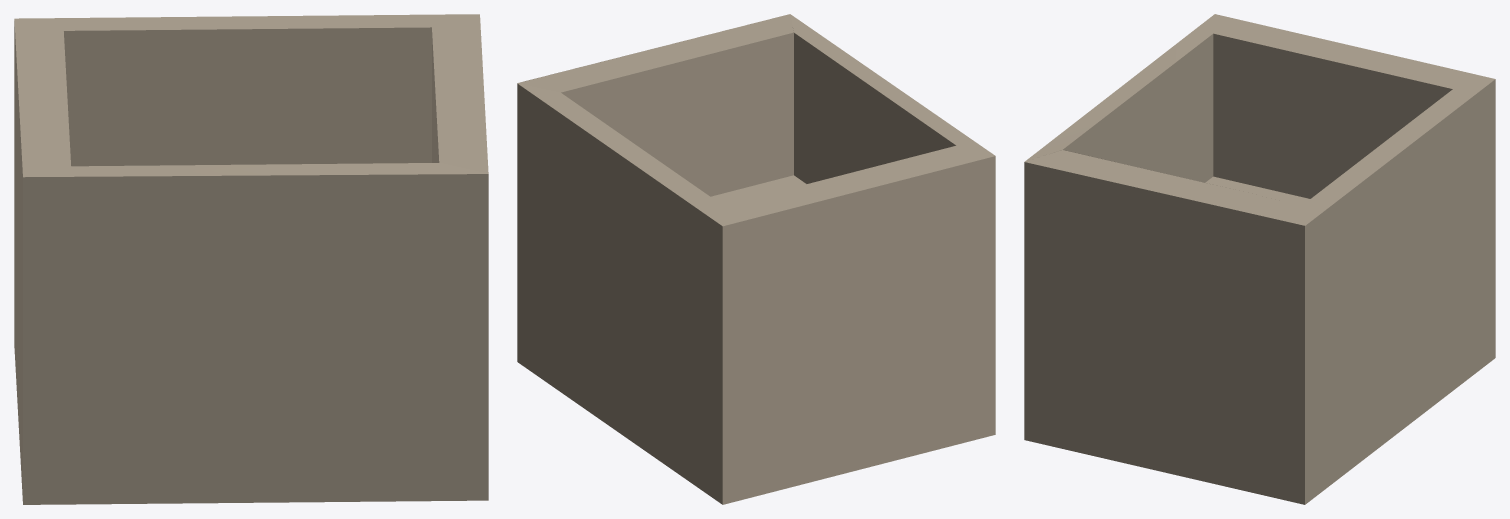
The model's file is MSH_QuestObject_box_01.fbx.
3 renders of one model, left to right at view 1: azimuth 30°, elevation 25°; view 2: azimuth 150°, elevation 25°; view 3: azimuth 270°, elevation 25°, orthographic. The views are drawn at different scales.
Visible parts, largest first — view 1: MSH_QuestObject_box_01; view 2: MSH_QuestObject_box_01; view 3: MSH_QuestObject_box_01.
Part boxes in pixels (x1=…): MSH_QuestObject_box_01: x1=14, y1=14, x2=488, y2=504; MSH_QuestObject_box_01: x1=517, y1=14, x2=995, y2=504; MSH_QuestObject_box_01: x1=1024, y1=14, x2=1495, y2=504.
Size of the model in its own units: 0.7539 by 0.4631 by 0.7089.
